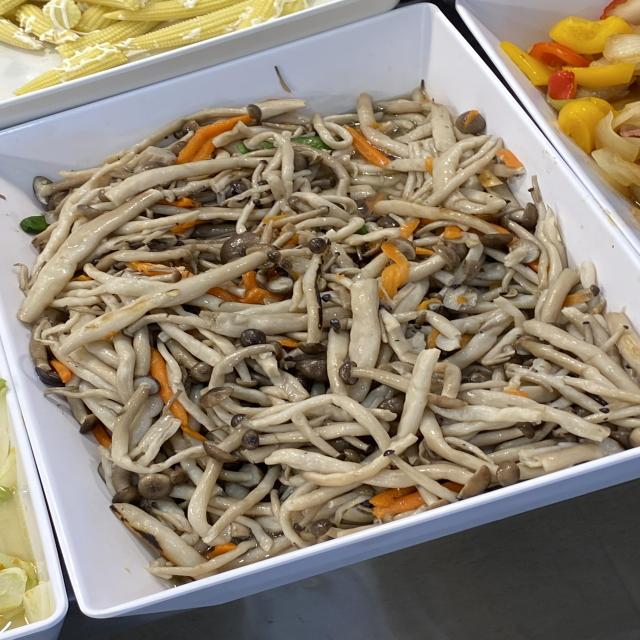brown swordbelt: (98, 197, 536, 472)
